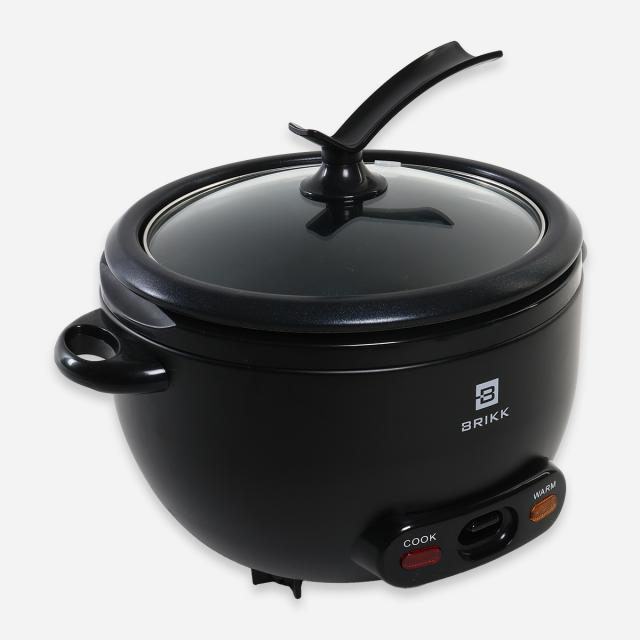appliances: (55, 43, 582, 595)
